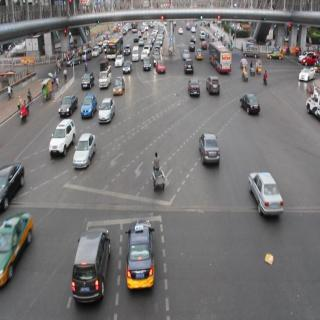BigCar: (210, 38, 232, 76)
Car: (75, 222, 108, 302), (0, 207, 29, 290), (126, 222, 159, 293), (248, 168, 284, 223), (0, 158, 29, 208), (76, 128, 96, 178), (52, 115, 72, 161), (199, 133, 221, 168), (58, 87, 76, 121), (243, 84, 260, 120), (82, 90, 95, 121), (99, 96, 113, 123), (298, 45, 316, 66), (113, 74, 126, 97), (188, 78, 202, 99), (98, 68, 111, 90), (243, 45, 262, 60), (268, 44, 283, 63), (298, 67, 315, 83), (209, 75, 222, 94), (80, 69, 92, 86), (156, 58, 168, 74), (123, 57, 133, 75), (185, 58, 195, 72), (144, 55, 151, 72), (114, 53, 123, 66)
